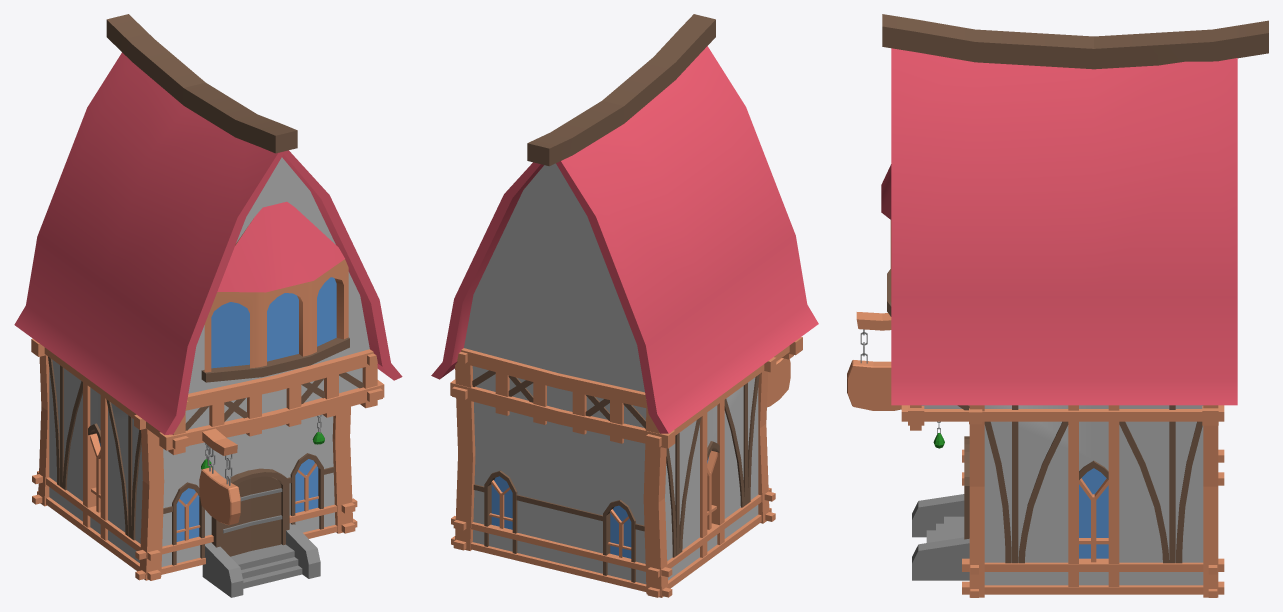
File: house2.fbx
3 renders of one model, left to right at view 1: azimuth 30°, elevation 25°; view 2: azimuth 150°, elevation 25°; view 3: azimuth 270°, elevation 25°, orthographic. The views are drawn at different scales.
Parts seen in each view (by area): view 1: home; view 2: home; view 3: home.
Part boxes in pixels (<box>): home: <box>14,14,402,597</box>; home: <box>431,14,818,597</box>; home: <box>847,14,1268,597</box>.
Size of the model in its own units: 1358 by 2528 by 1810.
